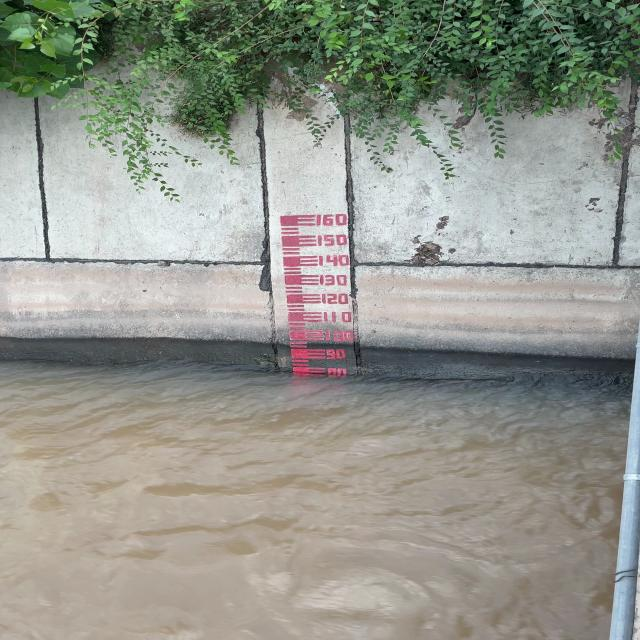ruler: (273, 209, 362, 367)
value: (312, 211, 352, 229), (315, 252, 354, 268), (315, 232, 352, 248), (320, 309, 356, 325), (320, 328, 358, 343), (316, 272, 352, 287), (317, 292, 353, 306), (322, 346, 350, 361)
